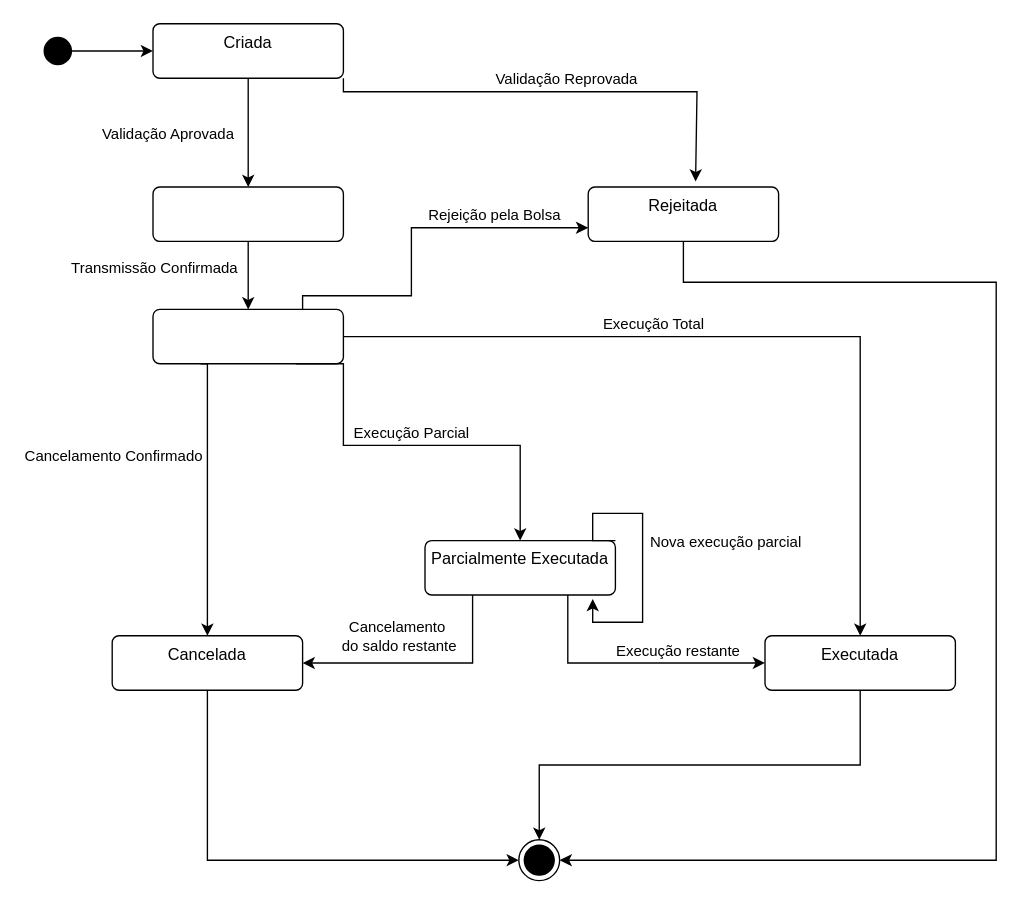
This 1031x904 diagram has some shape labels left out. Here are the shapes that lost their labels. From the top down, the centre of each, then its label:
At [247,213]: "Validada".
At [247,336]: "Enviada".
